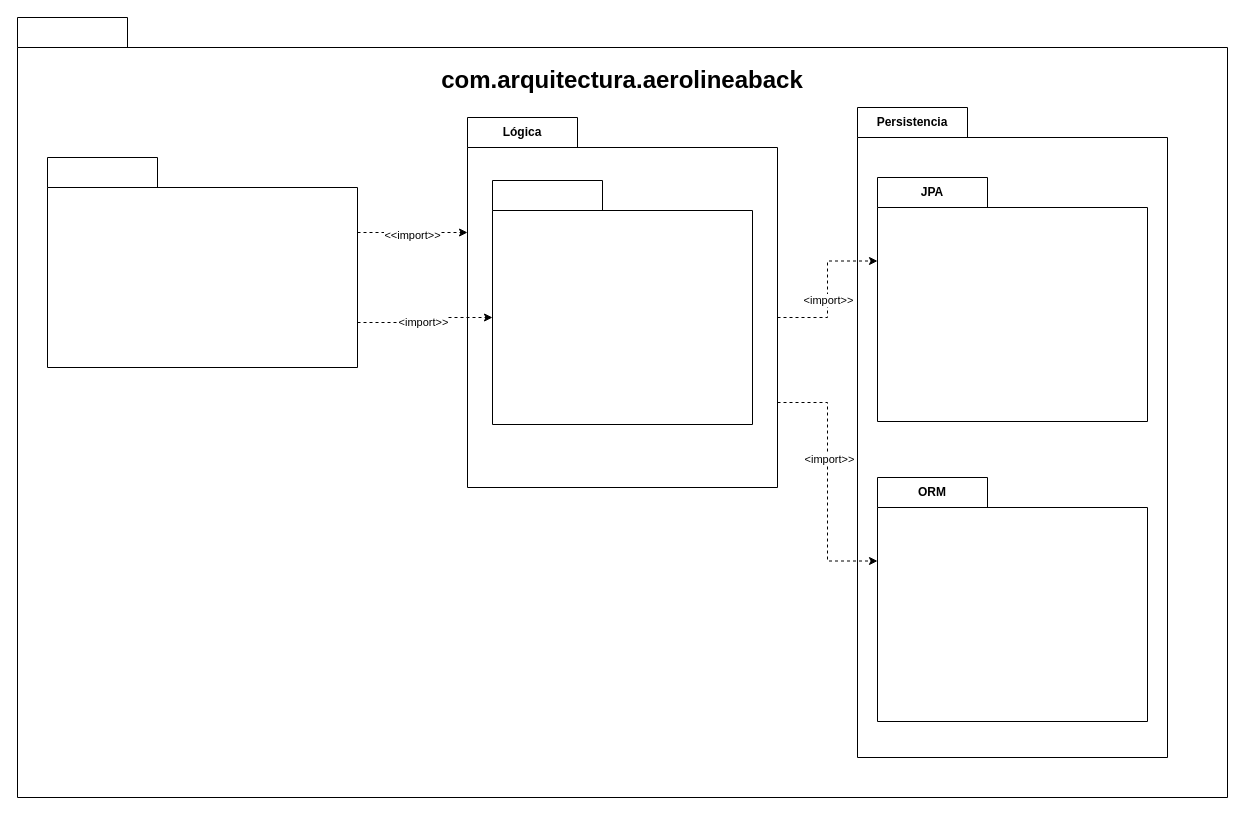
Image size: 1245x815. Some labels were removed from this diagram. The shapes that lost their labels are listed below. From the top down, each one's centre as x and y in pixels, then its label:
At [202,262]: "Controller".
At [622,302]: "DTO".
